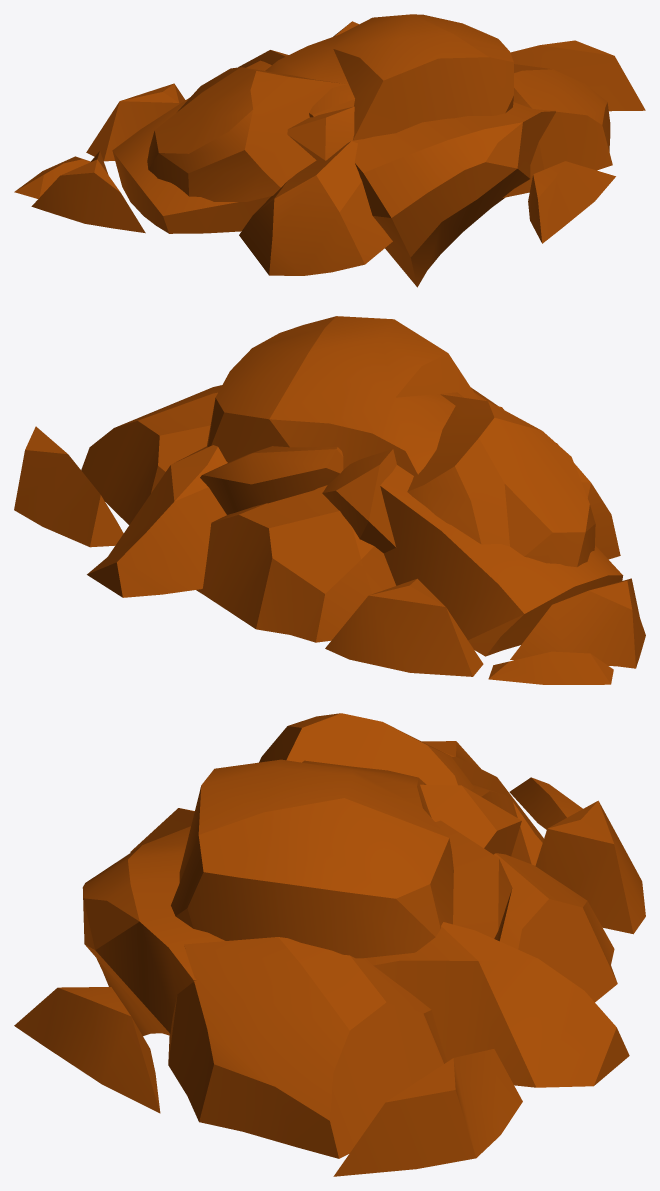
The model's file is RockMount_3.FBX.
The picture shows the model from 3 angles, top to bottom: view 1: azimuth 30°, elevation 25°; view 2: azimuth 150°, elevation 25°; view 3: azimuth 270°, elevation 25°; orthographic projection. The views are drawn at different scales.
Visible parts, largest first — view 1: rocks_mount3; view 2: rocks_mount3; view 3: rocks_mount3.
Boxes of the visible parts, left/top/right/bottom form: rocks_mount3: left=14, top=14, right=645, bottom=287; rocks_mount3: left=14, top=316, right=645, bottom=684; rocks_mount3: left=14, top=713, right=645, bottom=1176.
Bounding box in the file's own units: 11462 × 4036 × 7766.
